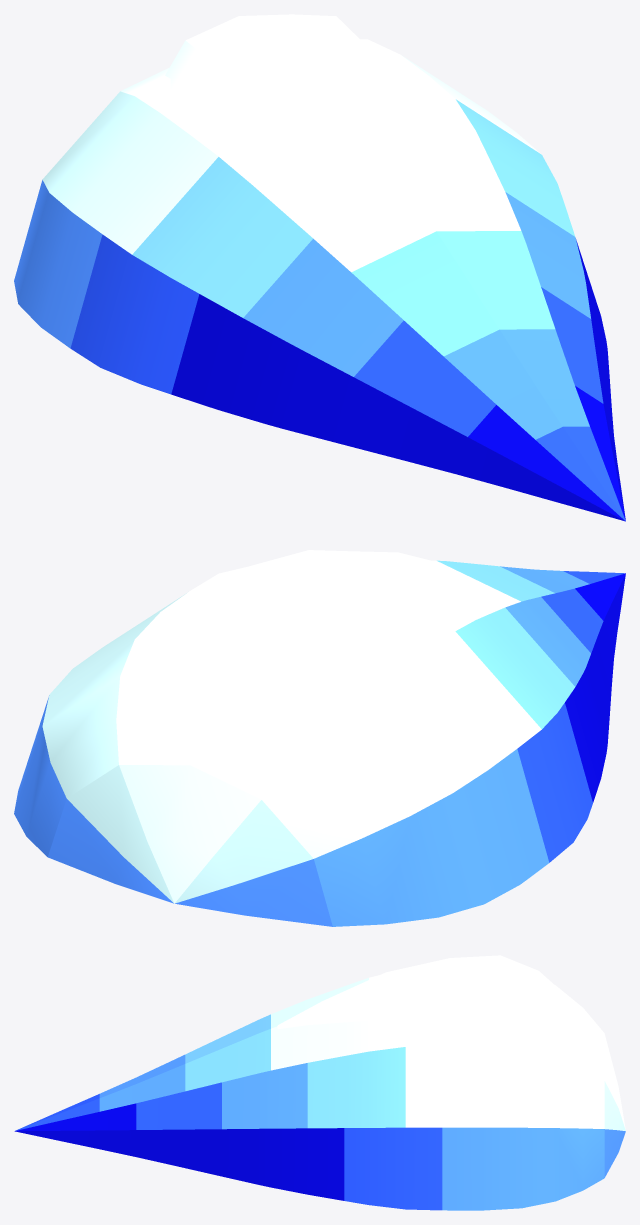
File: shot_frost.glb
3 views of the same model, one above another, from view 1: azimuth 30°, elevation 25°; view 2: azimuth 150°, elevation 25°; view 3: azimuth 270°, elevation 25° (orthographic). The views are drawn at different scales.
Visible parts, largest first — view 1: shot_frost_ice, shot_frost_core; view 2: shot_frost_ice, shot_frost_core; view 3: shot_frost_ice, shot_frost_core.
Boxes of the visible parts, x1=… form: shot_frost_ice: x1=14, y1=39, x2=625, y2=521; shot_frost_core: x1=165, y1=14, x2=437, y2=226; shot_frost_ice: x1=14, y1=560, x2=625, y2=926; shot_frost_core: x1=165, y1=550, x2=436, y2=710; shot_frost_ice: x1=14, y1=975, x2=625, y2=1210; shot_frost_core: x1=277, y1=955, x2=575, y2=1035.
Size of the model in its own units: 8.1 by 3.86 by 13.2.
